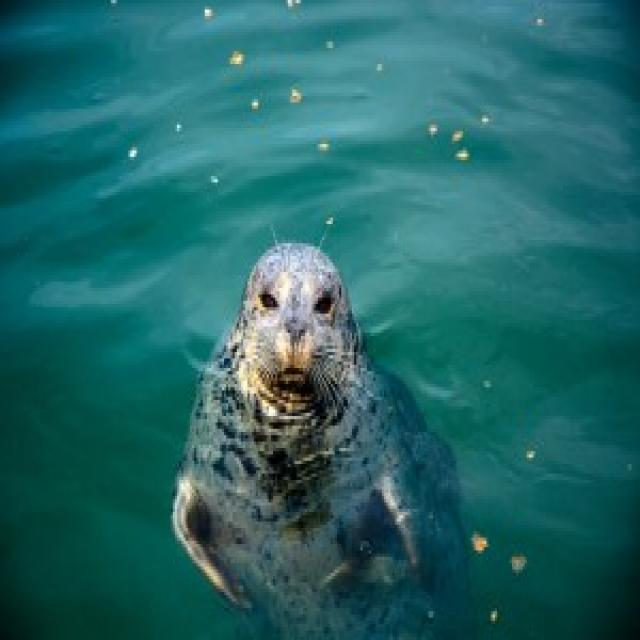Seal: (158, 221, 523, 640)
